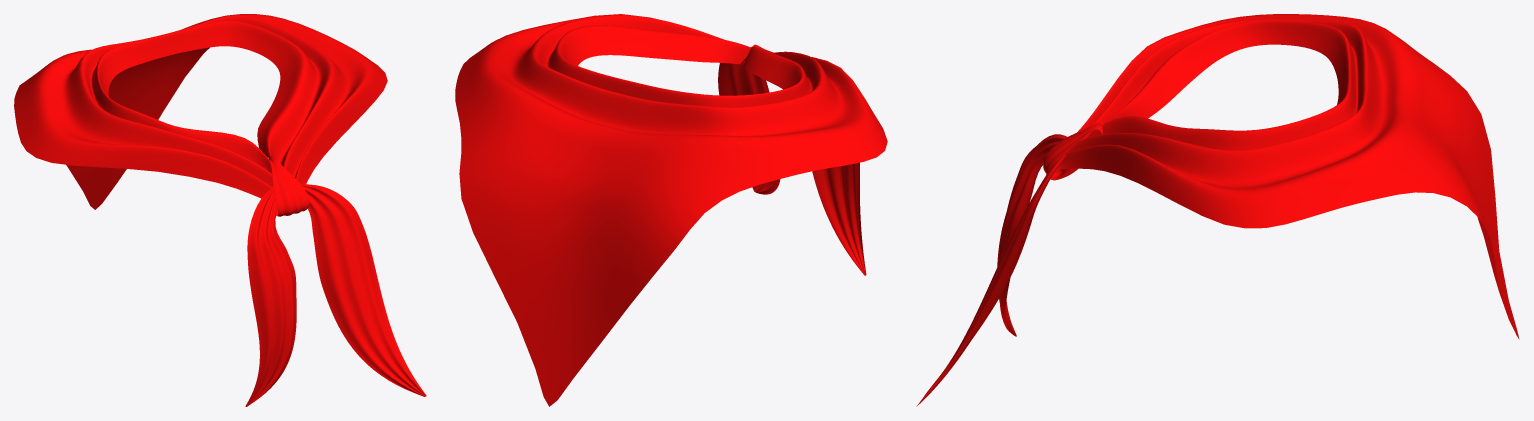
The model's file is pioneer.fbx.
3 renders of one model, left to right at view 1: azimuth 30°, elevation 25°; view 2: azimuth 150°, elevation 25°; view 3: azimuth 270°, elevation 25°, orthographic. The views are drawn at different scales.
Visible parts, largest first — view 1: Object002; view 2: Object002; view 3: Object002.
Part boxes in pixels (bbox=[...]): Object002: bbox=[14, 14, 426, 406]; Object002: bbox=[455, 14, 887, 406]; Object002: bbox=[916, 14, 1519, 406].
Size of the model in its own units: 1143 by 798 by 1432.
